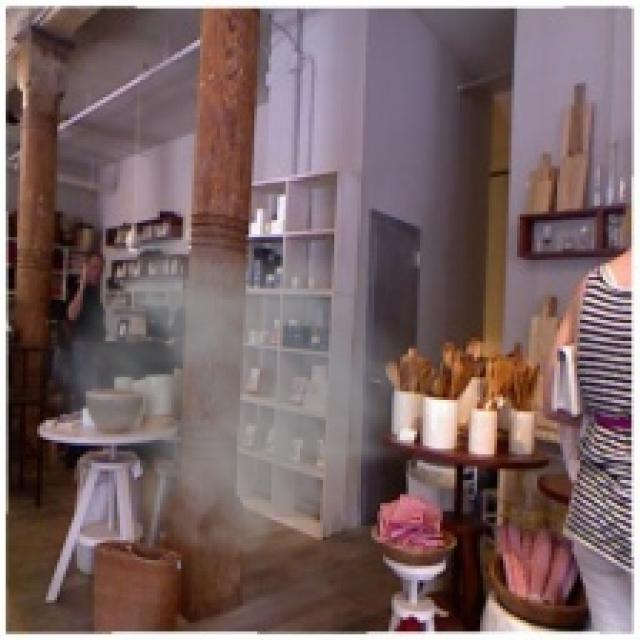smoke: (28, 226, 443, 597)
